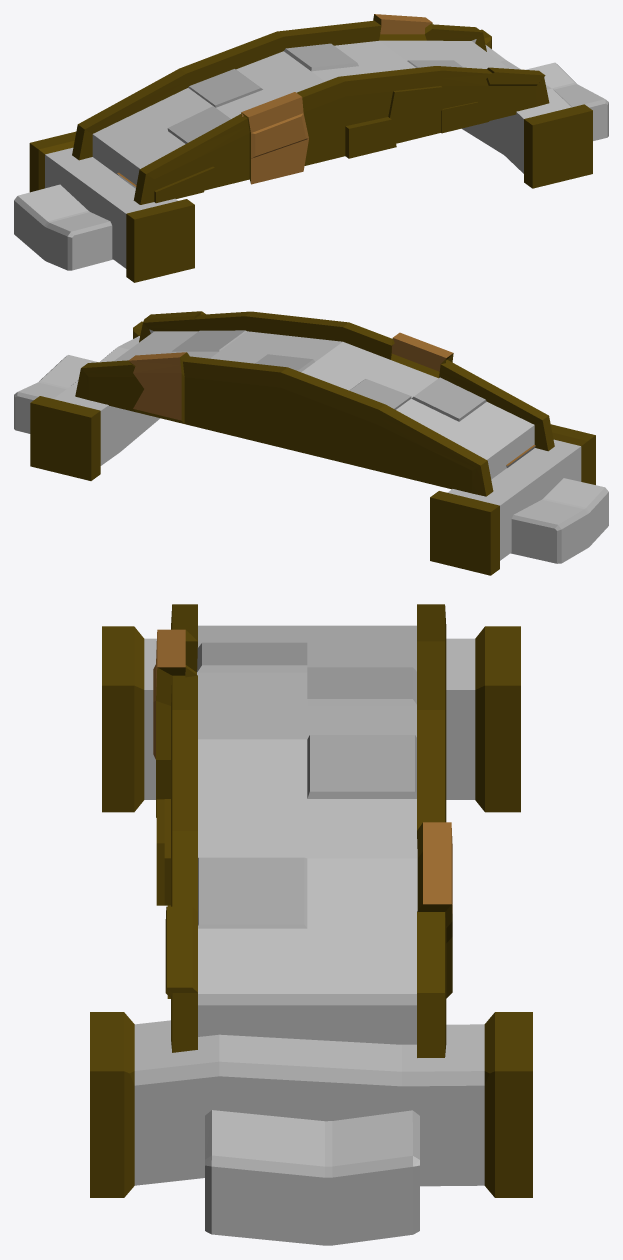
File: Bridge_B.fbx
3 views of the same model, one above another, from view 1: azimuth 30°, elevation 25°; view 2: azimuth 150°, elevation 25°; view 3: azimuth 270°, elevation 25° (orthographic). The views are drawn at different scales.
Visible parts, largest first — view 1: pCube14; view 2: pCube14; view 3: pCube14.
Boxes of the visible parts, x1,y1,x2,y2 form: pCube14: (14,14,608,282); pCube14: (14,311,608,575); pCube14: (90,604,532,1245).
Size of the model in its own units: 246 by 58.6 by 86.54.
